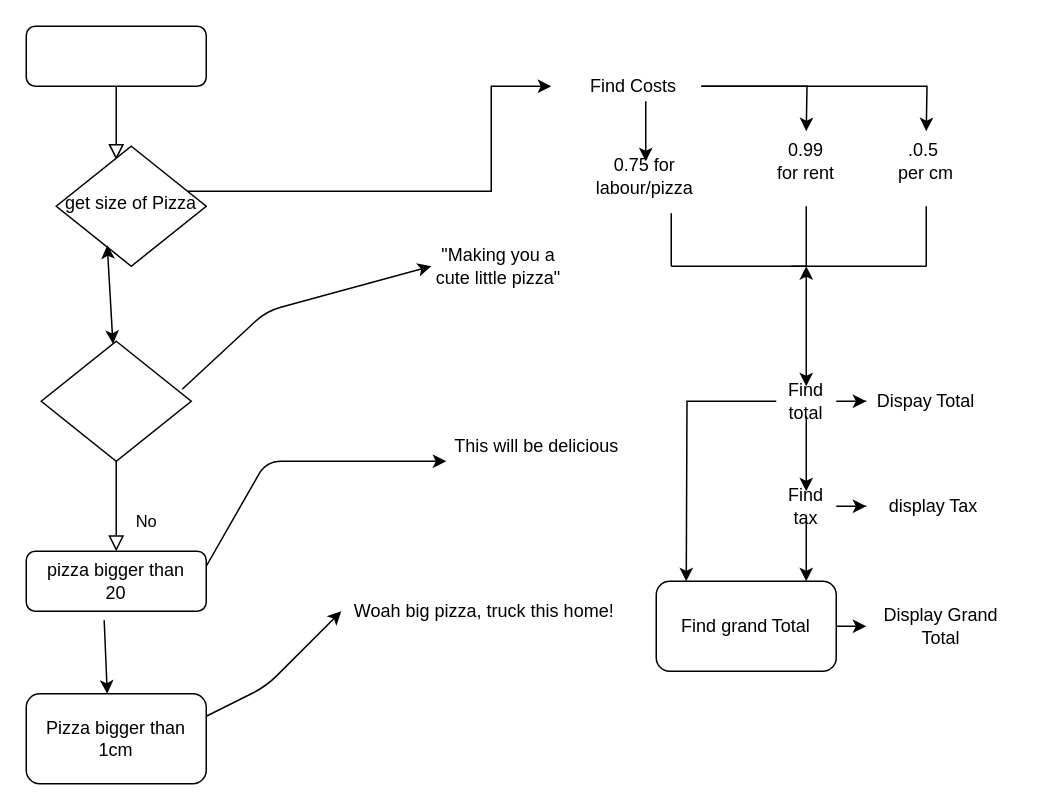
This 1043x810 diagram has some shape labels left out. Each missing label, with the box of its shape:
begin: (25, 25, 206, 86)
Pizza bigger than 40: (40, 340, 191, 461)
